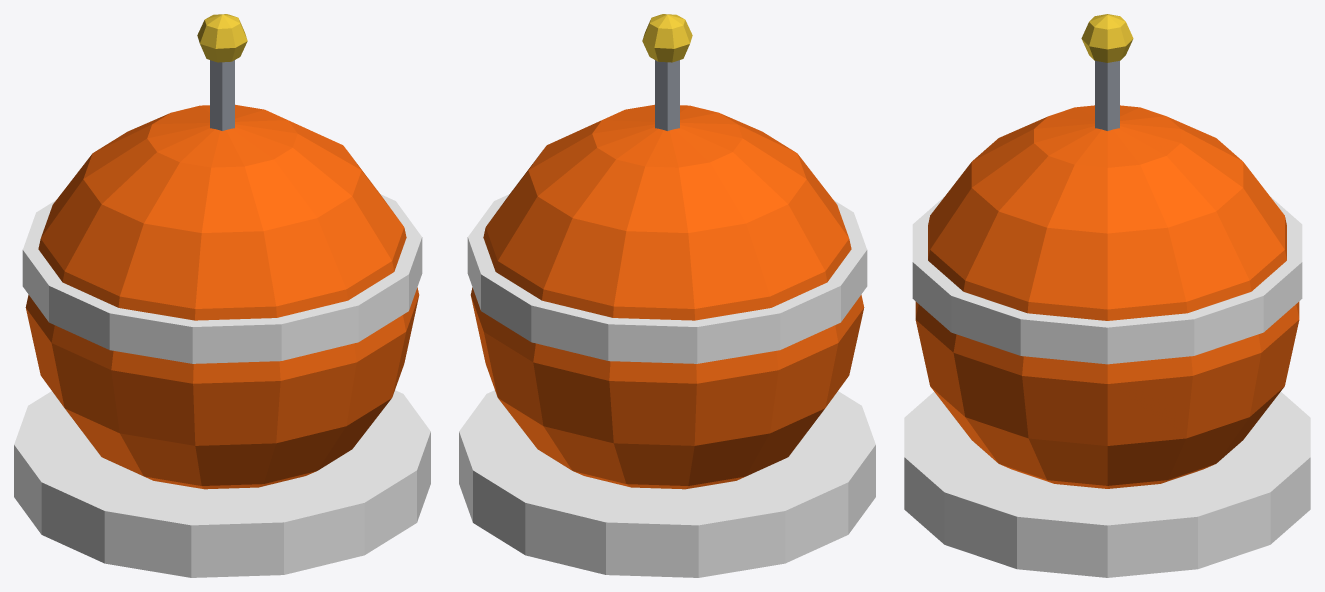
The model's file is boya_gigante.obj.
The picture shows the model from 3 angles, left to right: view 1: azimuth 30°, elevation 25°; view 2: azimuth 150°, elevation 25°; view 3: azimuth 270°, elevation 25°; orthographic projection.
Parts seen in each view (by area): view 1: boya_gigante; view 2: boya_gigante; view 3: boya_gigante.
Boxes of the visible parts, x1=… form: boya_gigante: x1=14, y1=14, x2=430, y2=577; boya_gigante: x1=459, y1=14, x2=875, y2=577; boya_gigante: x1=904, y1=14, x2=1310, y2=577.
Bounding box in the file's own units: 7.2 × 9.05 × 7.02.
